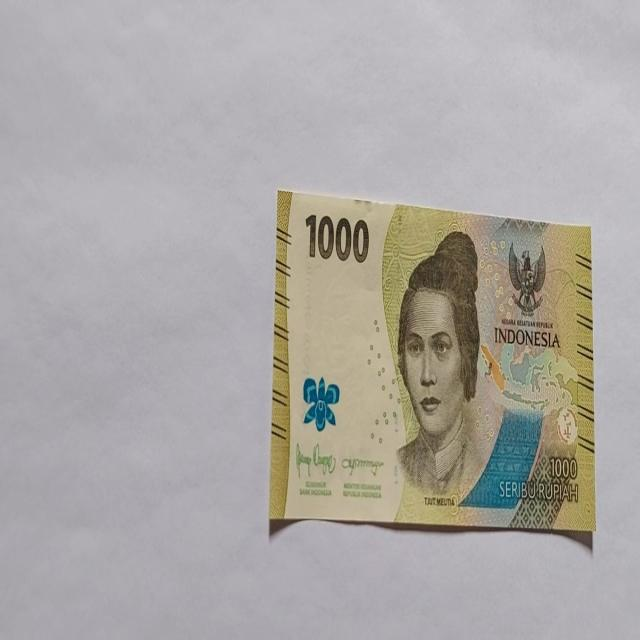seribu rupiah kertas: (270, 187, 594, 537)
